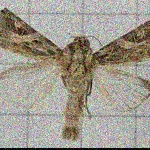Spodoptera litura: (0, 6, 149, 141)
